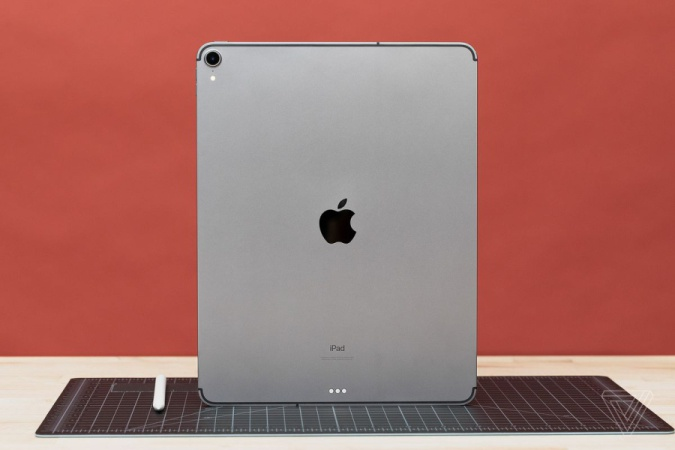apple: (301, 184, 371, 257)
